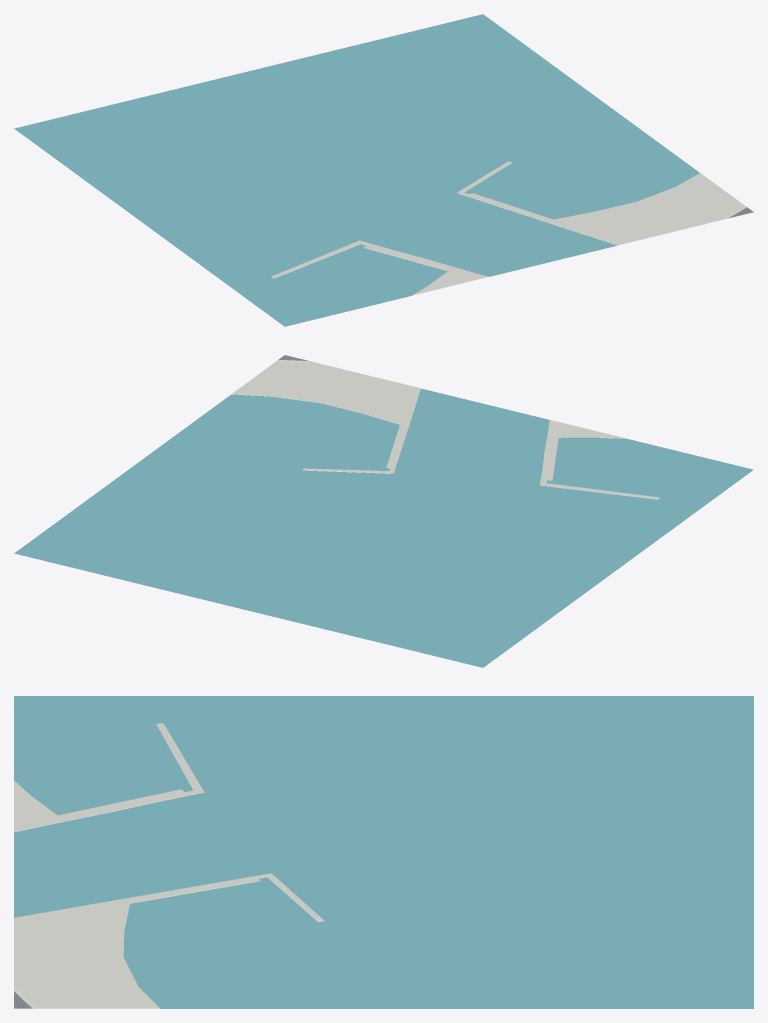
3 views of the same model, one above another, from view 1: azimuth 30°, elevation 25°; view 2: azimuth 150°, elevation 25°; view 3: azimuth 270°, elevation 25° (orthographic). The views are drawn at different scales.
Parts seen in each view (by area): view 1: city; view 2: city; view 3: city.
Part boxes in pixels (x1,y1,x2,y2): city: [14, 14, 753, 326]; city: [14, 355, 753, 667]; city: [14, 696, 753, 1008].
Bounding box in the file's own units: 500 × 0.4 × 500.
